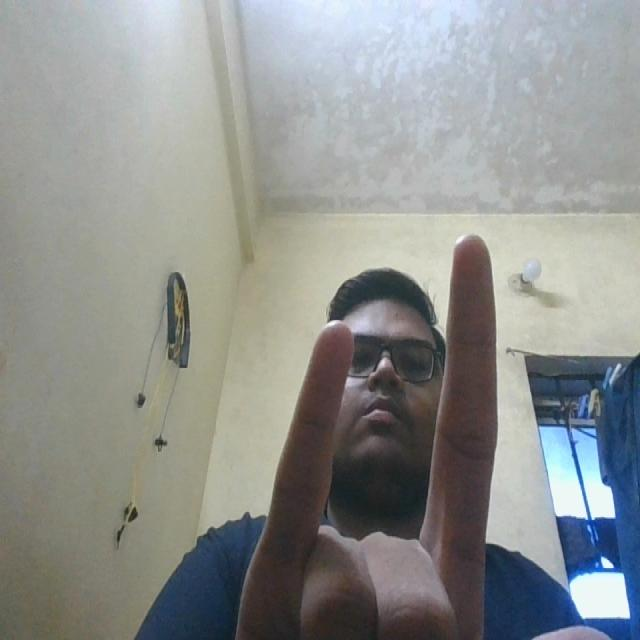iloveyou: (240, 211, 526, 614)
